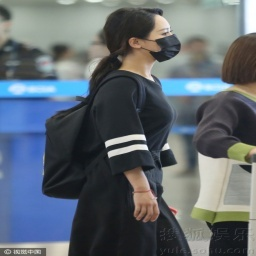correctlyWear: (129, 24, 181, 62)
